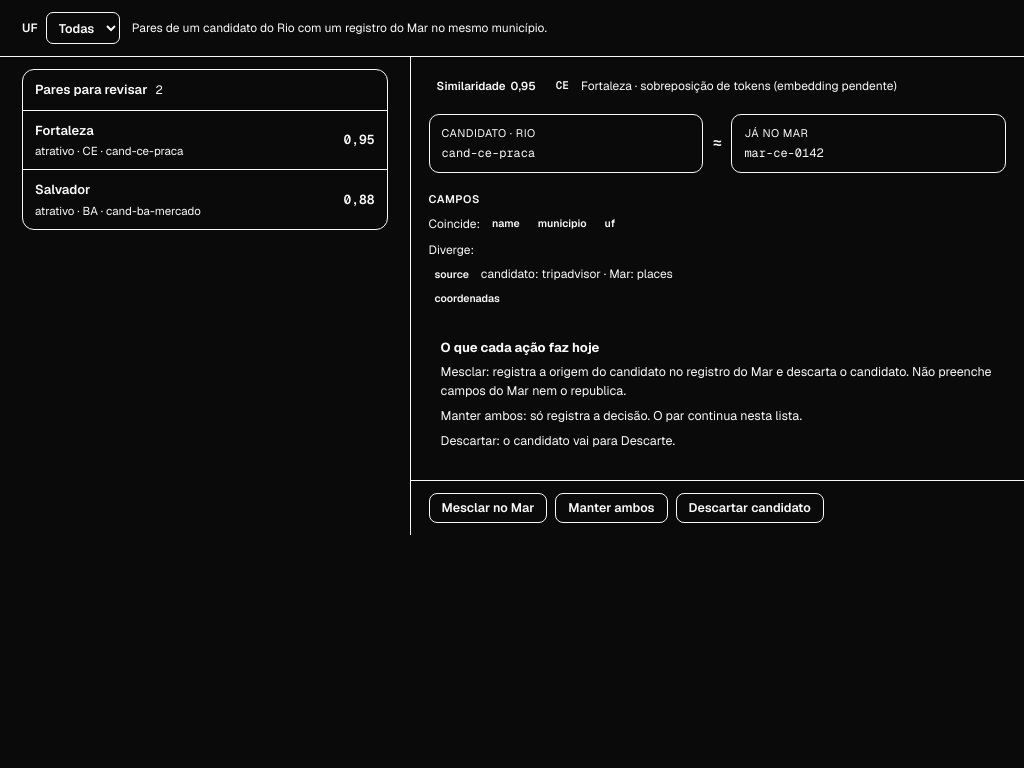
Test: PainelDuplicados › lists the pairs and details the selected one with coincide/diverge tags and a labeled similarity
Expected: the option with test id "dedup-pair" shows "Fortaleza", x1=23 y1=110 x2=387 y2=169
Expected: the option with test id "dedup-pair" shows "0,95", x1=23 y1=110 x2=387 y2=169
Step 1. Click the option with test id "dedup-pair" that starts with "Salvador" → (63,190), box x1=23 y1=169 x2=387 y2=229
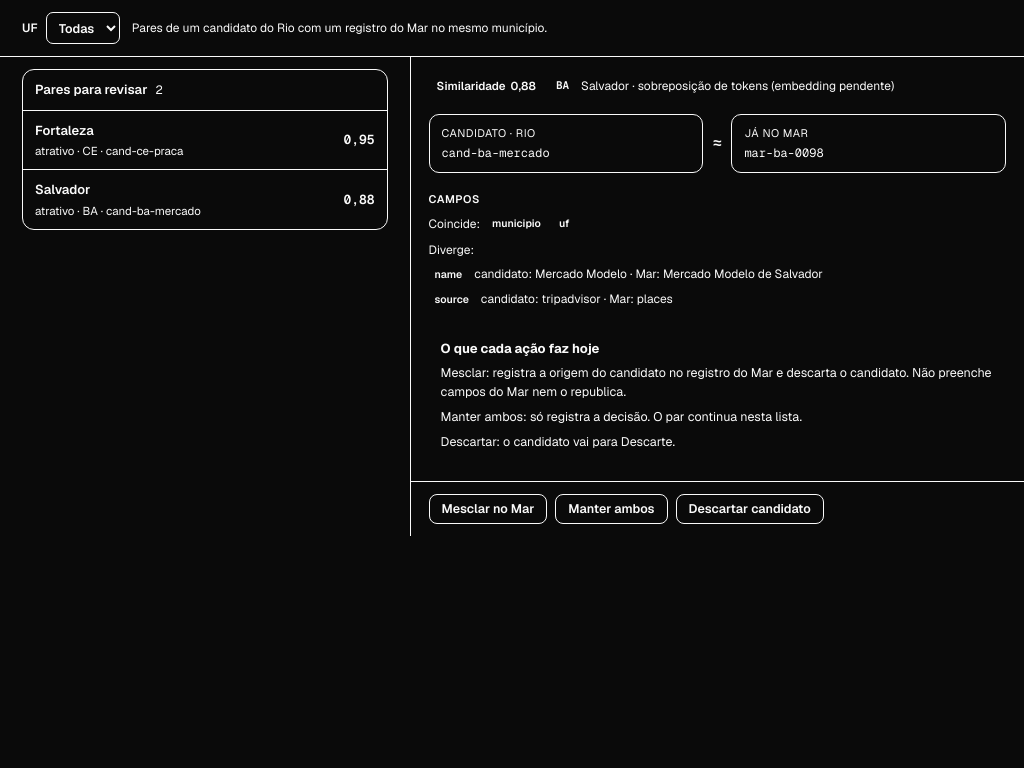
Result: the element with test id "dedup-detail" shows "Salvador" at x1=581 y1=78 x2=629 y2=94
